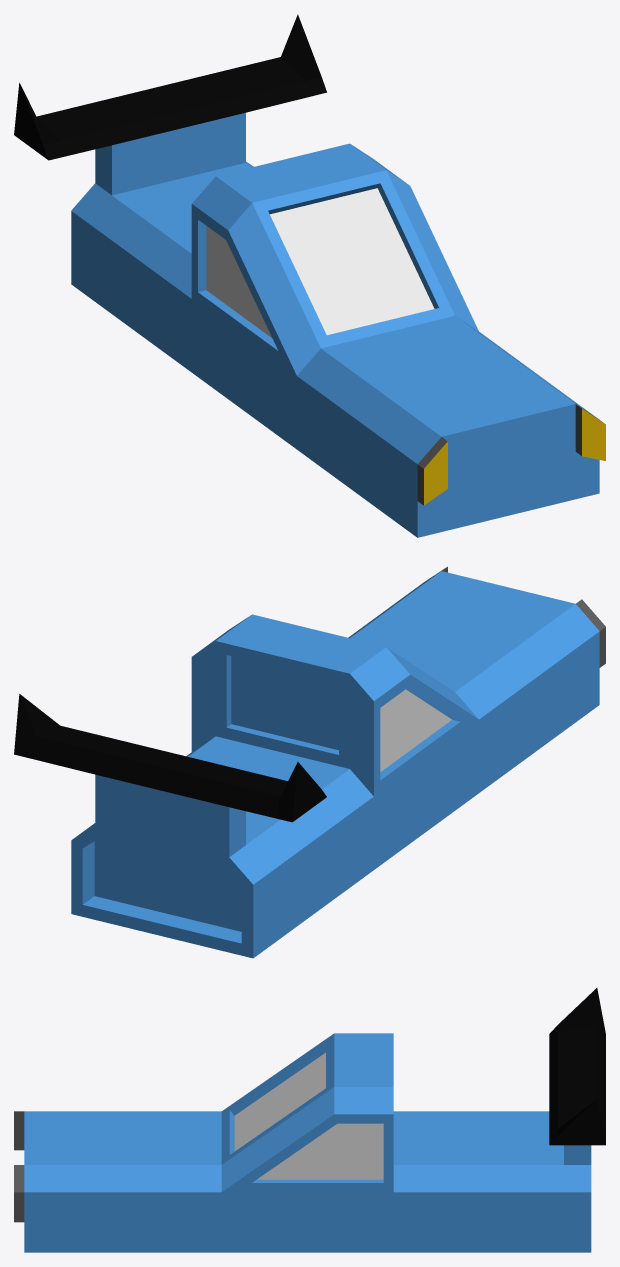
File: Samuel_bil.glb
3 renders of one model, top to bottom at view 1: azimuth 30°, elevation 25°; view 2: azimuth 150°, elevation 25°; view 3: azimuth 270°, elevation 25°, orthographic. The views are drawn at different scales.
Parts seen in each view (by area): view 1: Cube; view 2: Cube; view 3: Cube.
Boxes of the visible parts, left/top/right/bottom form: Cube: left=14, top=14, right=605, bottom=537; Cube: left=14, top=566, right=605, bottom=958; Cube: left=14, top=988, right=605, bottom=1252.
Bounding box in the file's own units: 3.06 × 2.22 × 6.88.
